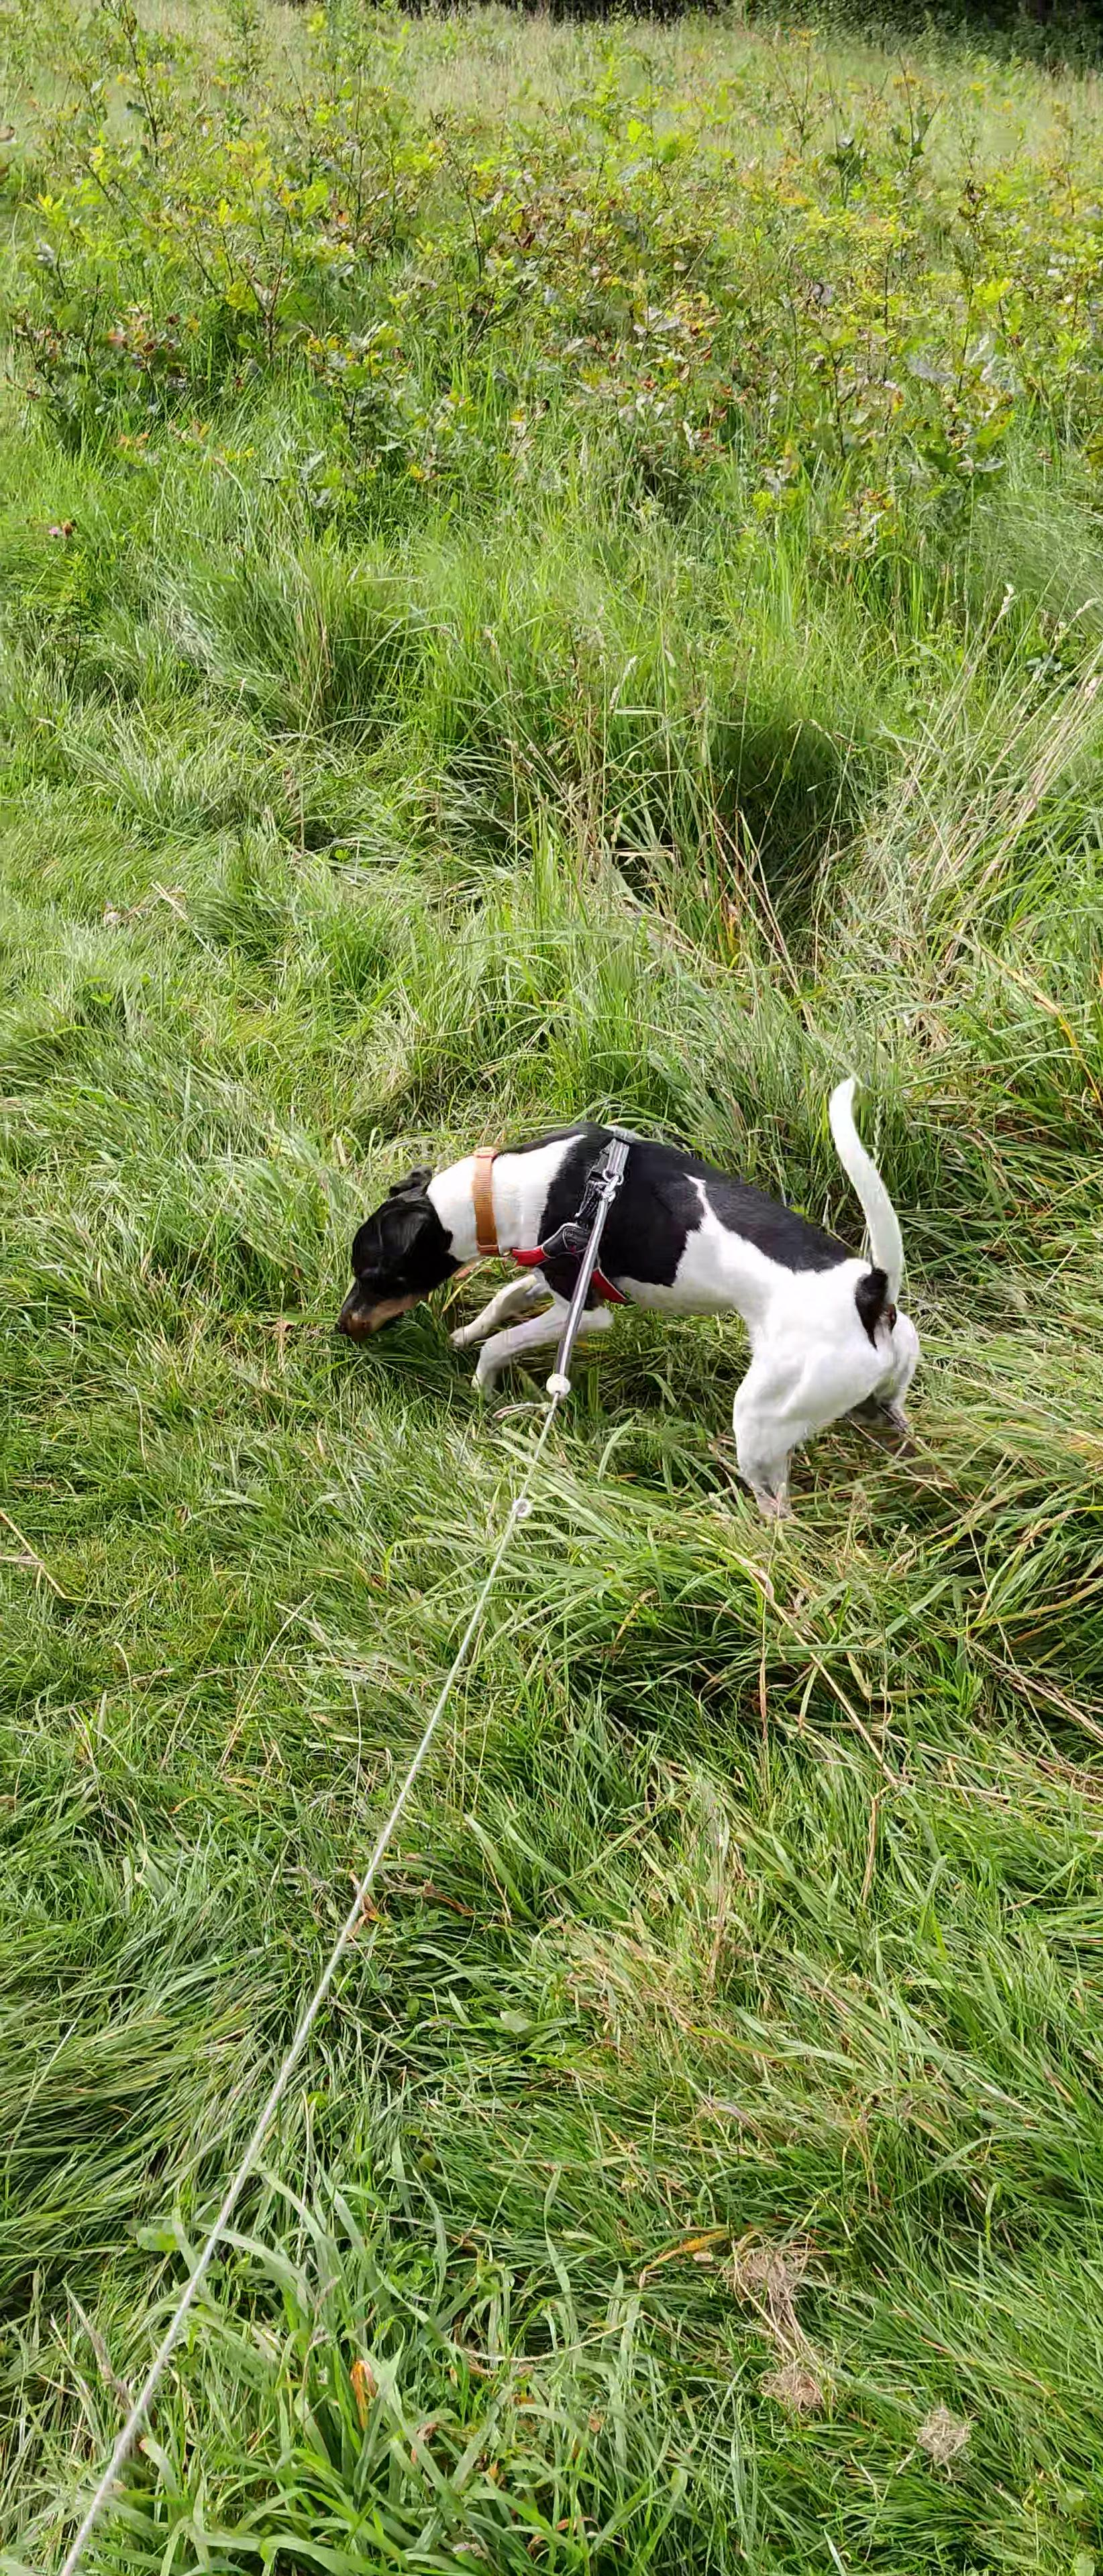Dog: (325, 1053, 958, 1534)
